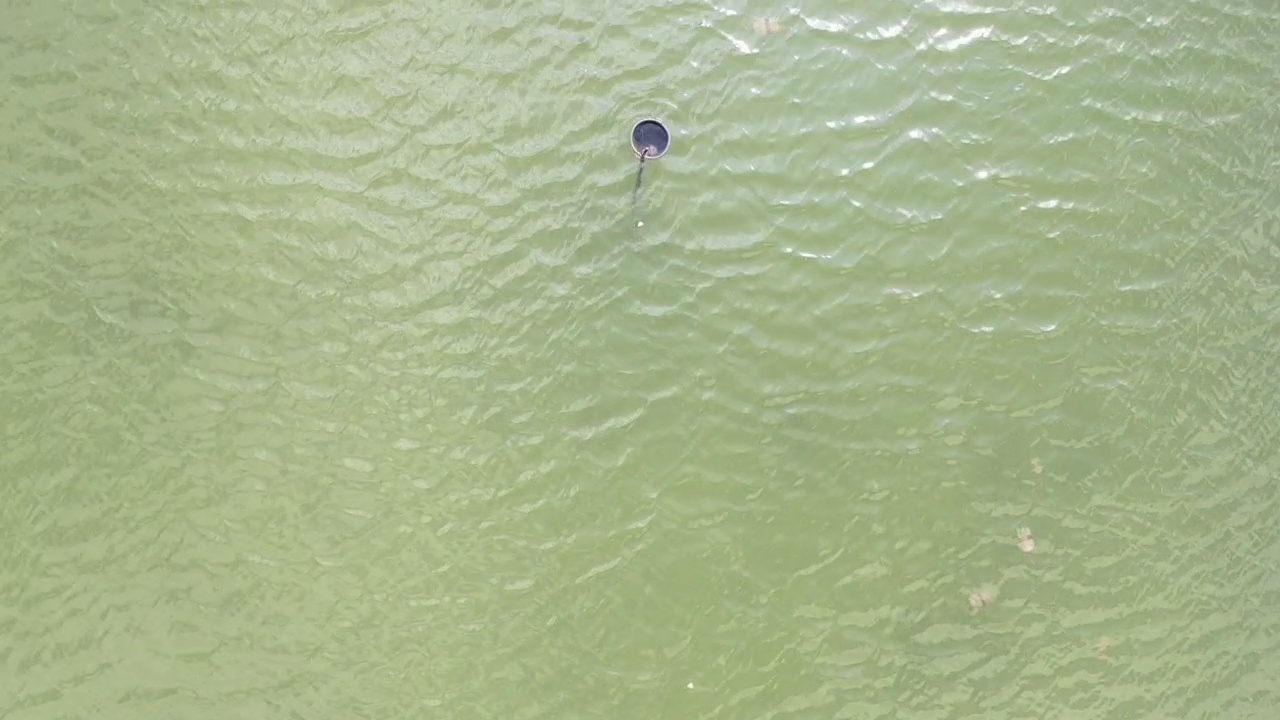meduse: (754, 15, 782, 36), (1016, 527, 1037, 553), (972, 585, 996, 605), (1098, 636, 1114, 653), (1029, 457, 1045, 474)
